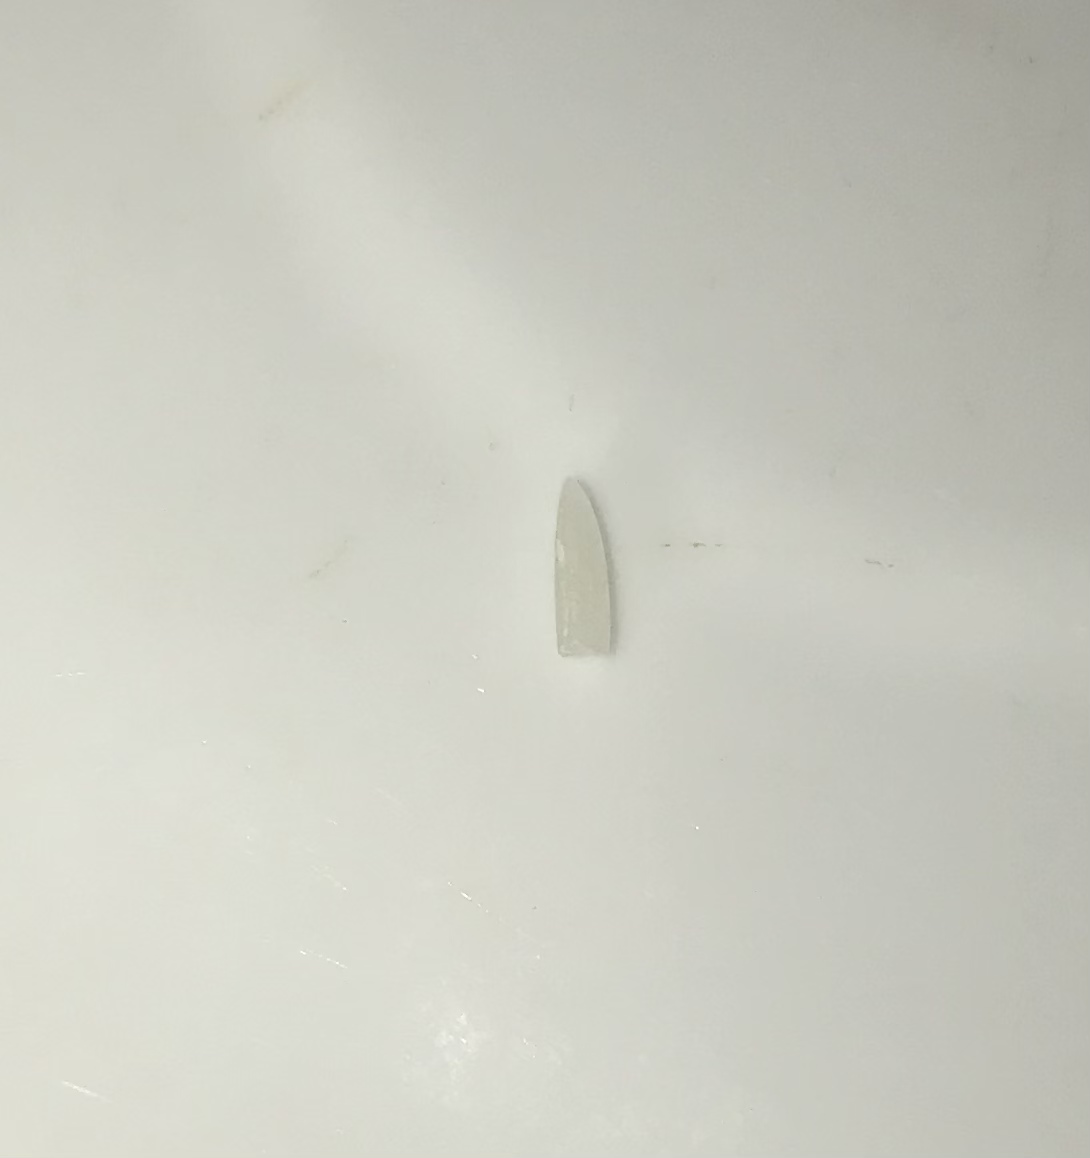Gao Ngoc Troi: (534, 474, 658, 667)
